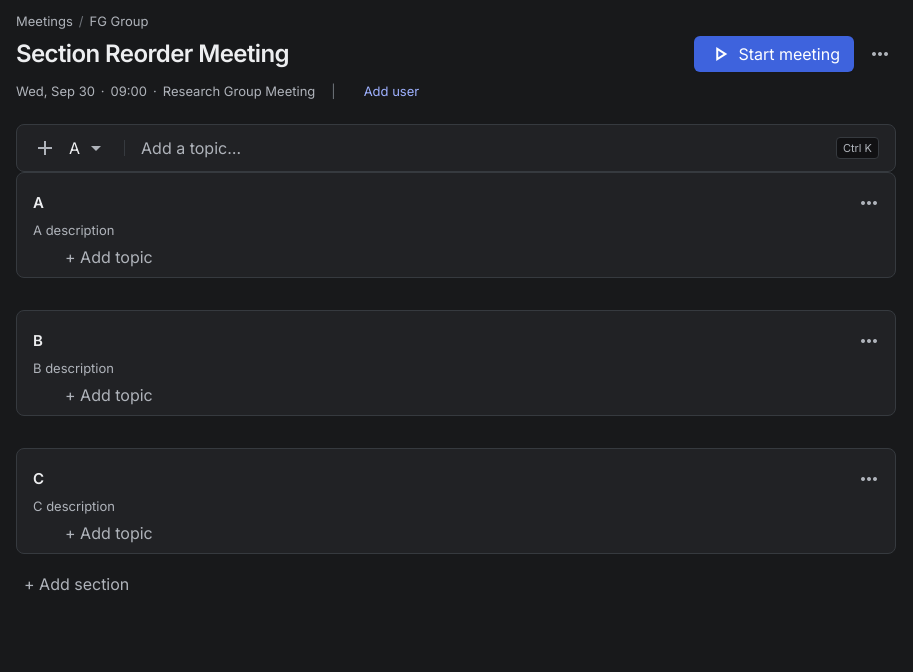
it: MeetingDetailPage section reordering › keeps the visual order and shows actionable feedback when reorder fails
Expected: the heading "Section Reorder Meeting" is shown, [16, 38, 289, 70]
Click the button named "Actions for section B" at (869, 341), box [855, 327, 883, 355]
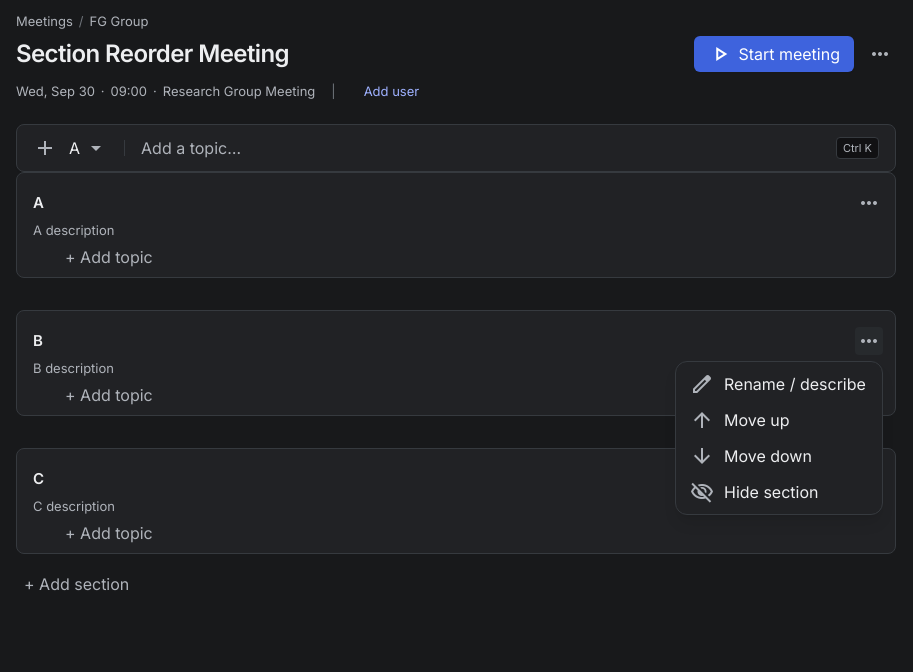
Click the menu item "Move up" at (779, 420), box [680, 402, 878, 438]
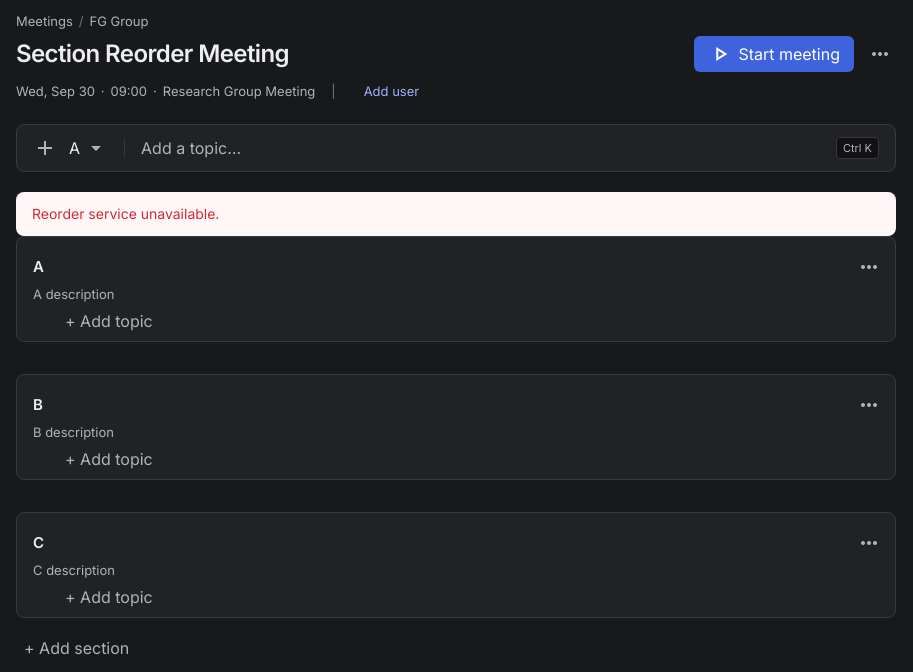
Expected: the text "Reorder service unavailable." is shown, [16, 192, 896, 236]
